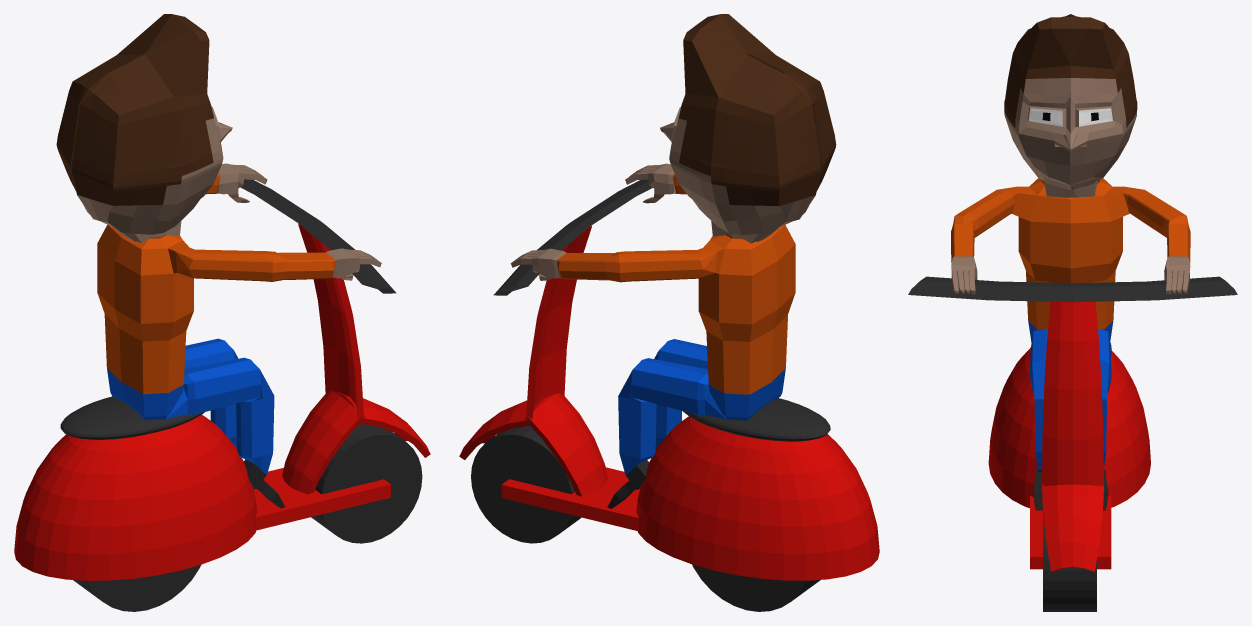
Rendered from scooter.fbx.
3 views of the same model, side by side, from view 1: azimuth 30°, elevation 25°; view 2: azimuth 150°, elevation 25°; view 3: azimuth 270°, elevation 25° (orthographic). The views are drawn at different scales.
Parts seen in each view (by area): view 1: Scooter; view 2: Scooter; view 3: Scooter.
Boxes of the visible parts, left/top/right/bottom form: Scooter: left=14, top=14, right=430, bottom=611; Scooter: left=459, top=14, right=879, bottom=611; Scooter: left=908, top=14, right=1237, bottom=611.
Size of the model in its own units: 316 by 427 by 244.
